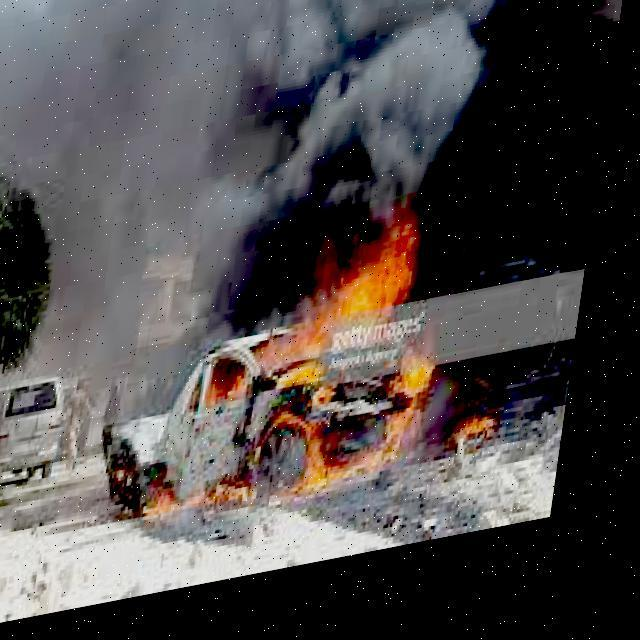Fire: (188, 231, 467, 535)
